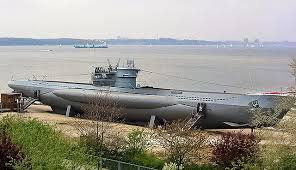boat: (7, 56, 293, 130), (73, 39, 108, 49)
